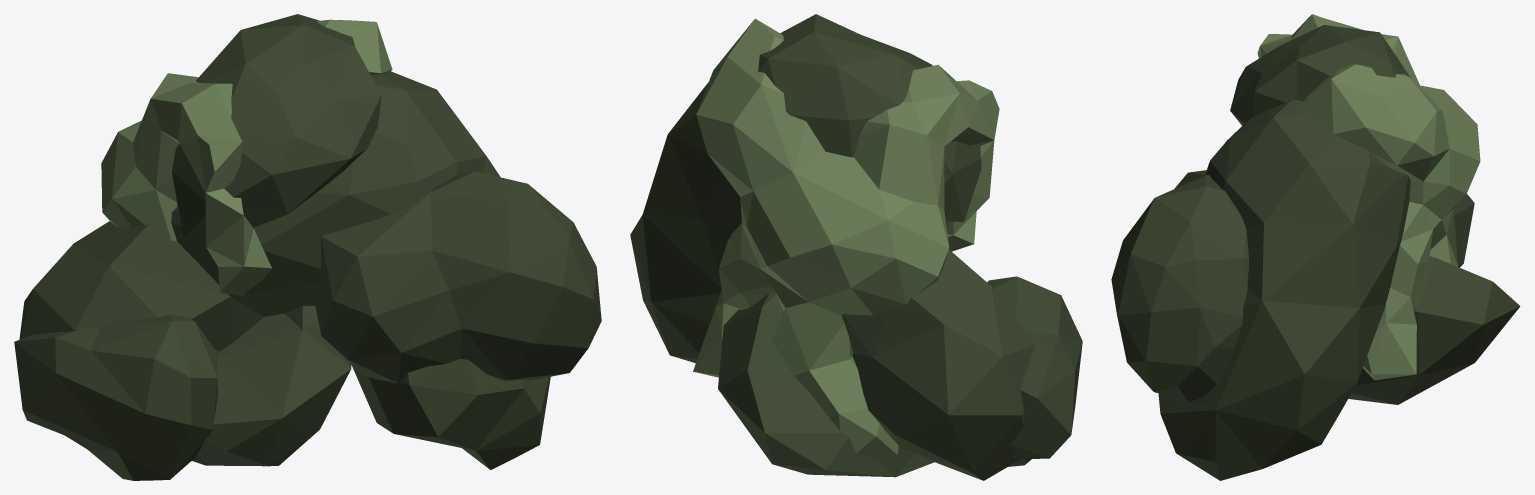
The model's file is EA_Bush1c.glb.
3 renders of one model, left to right at view 1: azimuth 30°, elevation 25°; view 2: azimuth 150°, elevation 25°; view 3: azimuth 270°, elevation 25°, orthographic. The views are drawn at different scales.
Parts seen in each view (by area): view 1: EA_Bush1c; view 2: EA_Bush1c; view 3: EA_Bush1c.
Boxes of the visible parts, box(x1,y1,x2,y2) form: EA_Bush1c: box(14, 14, 601, 480); EA_Bush1c: box(630, 14, 1082, 480); EA_Bush1c: box(1111, 14, 1520, 480).
Bounding box in the file's own units: 6.87 × 5.79 × 5.71.
Materials: 1 (1 with a texture image).
